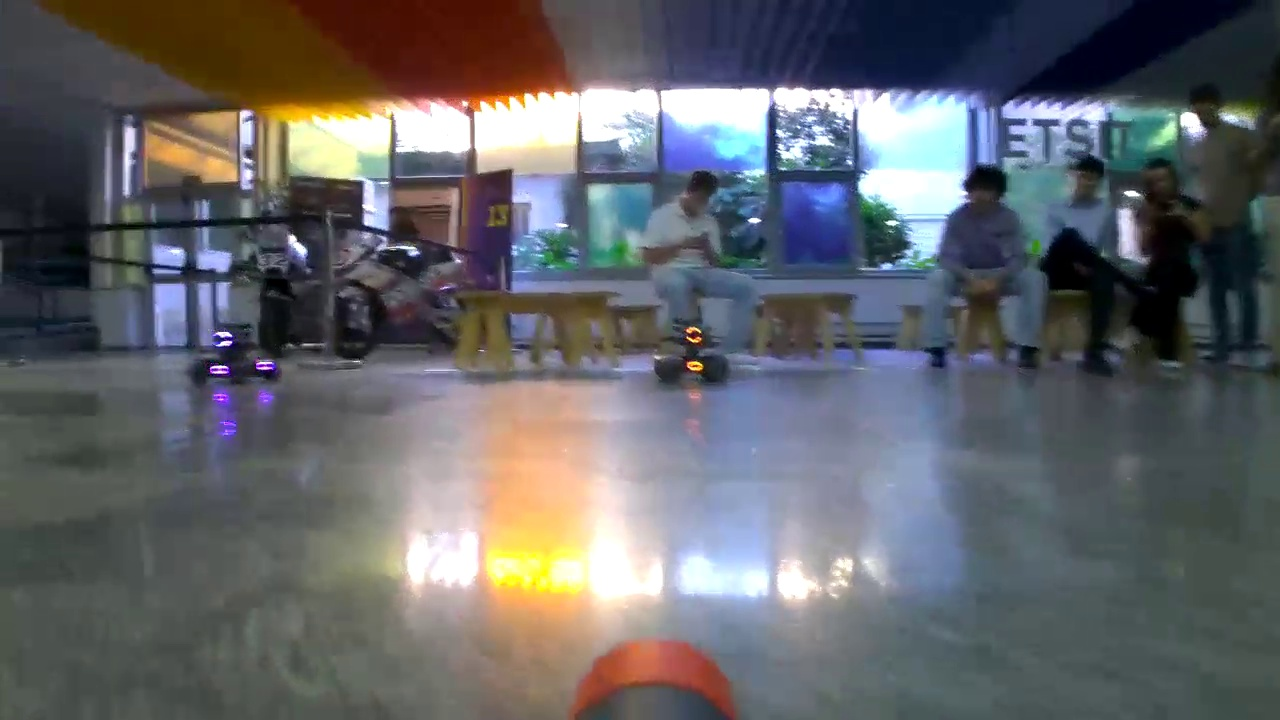robot: (190, 325, 282, 385), (652, 320, 732, 382)
